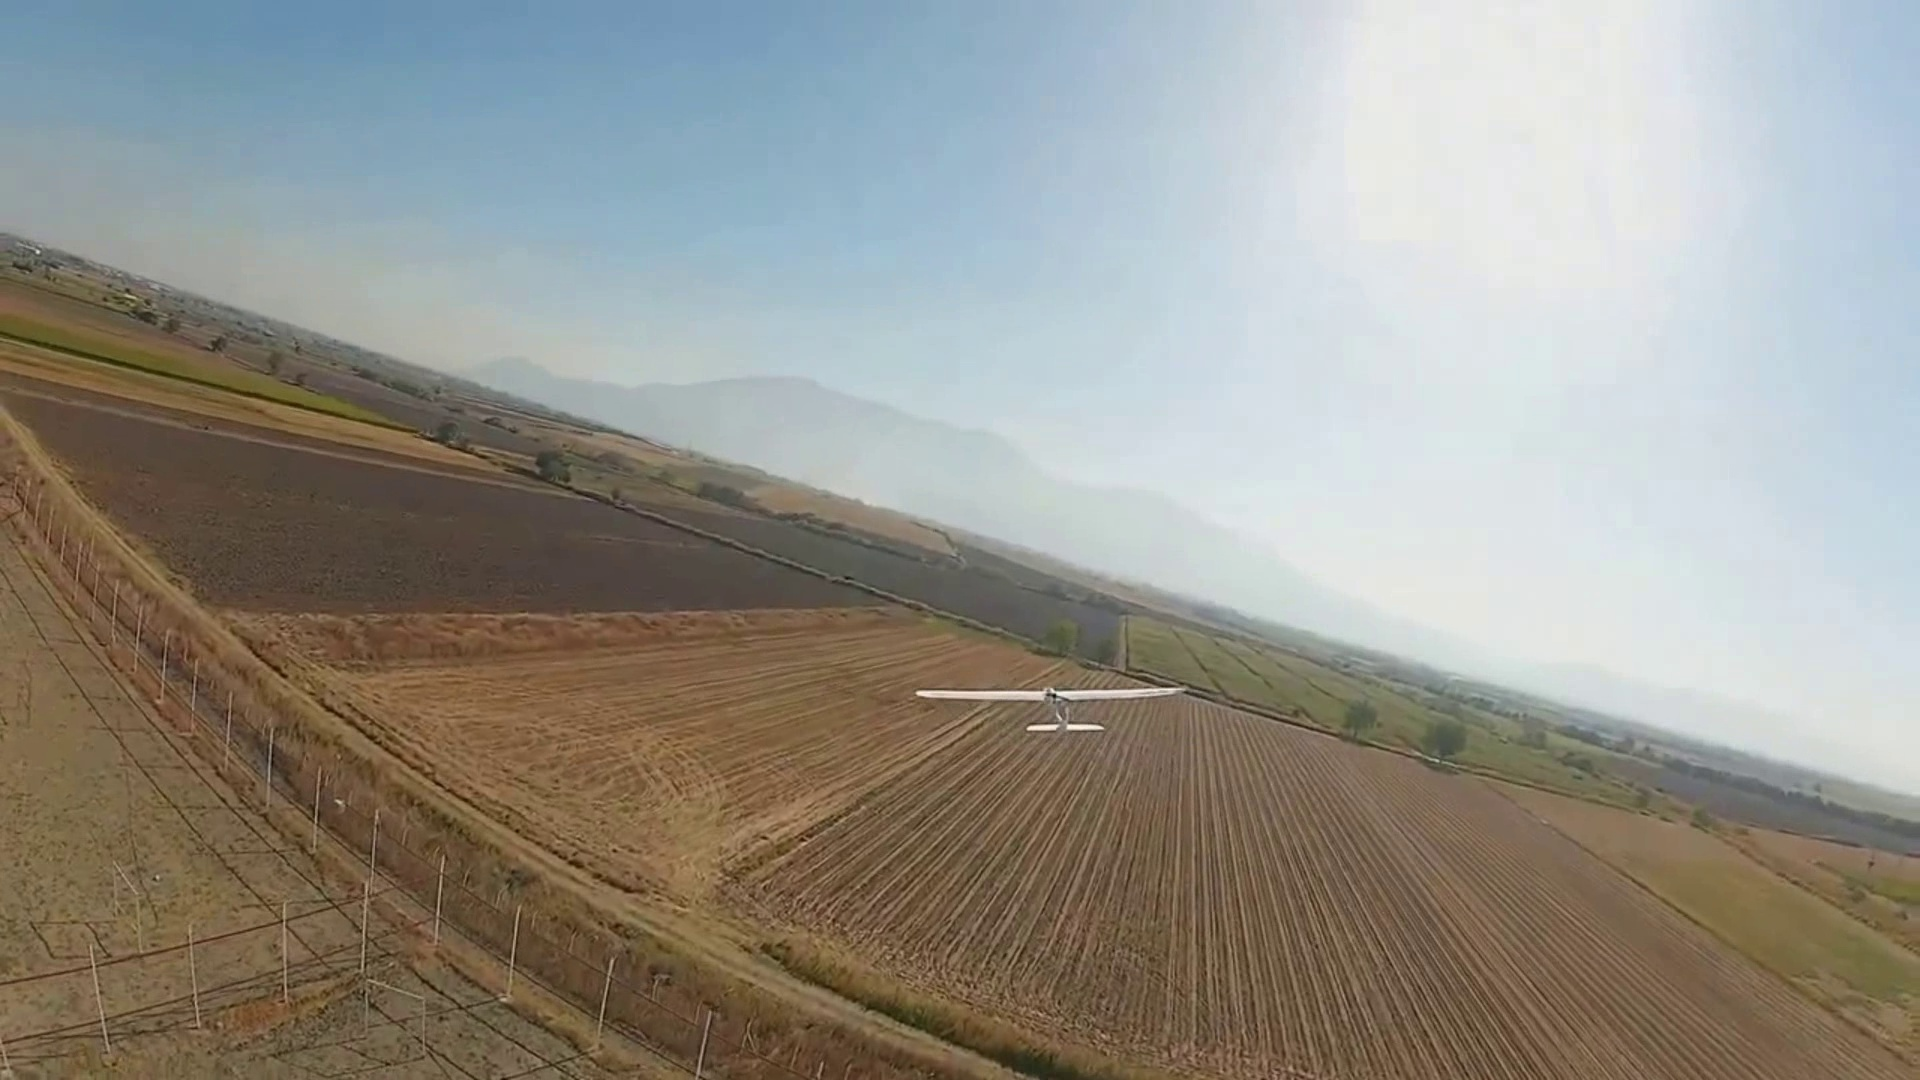airplane: (11, 255, 1919, 887)
